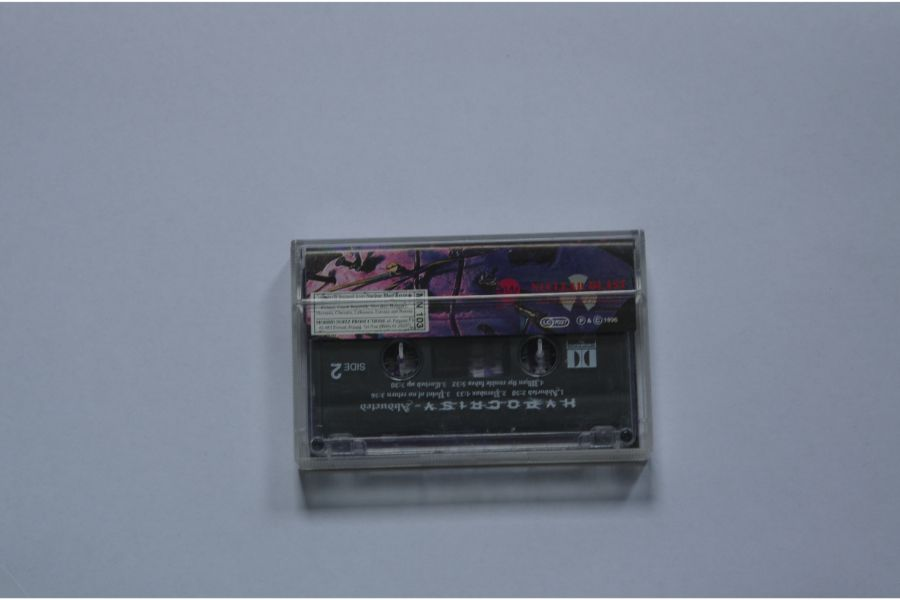album: (286, 231, 658, 472)
